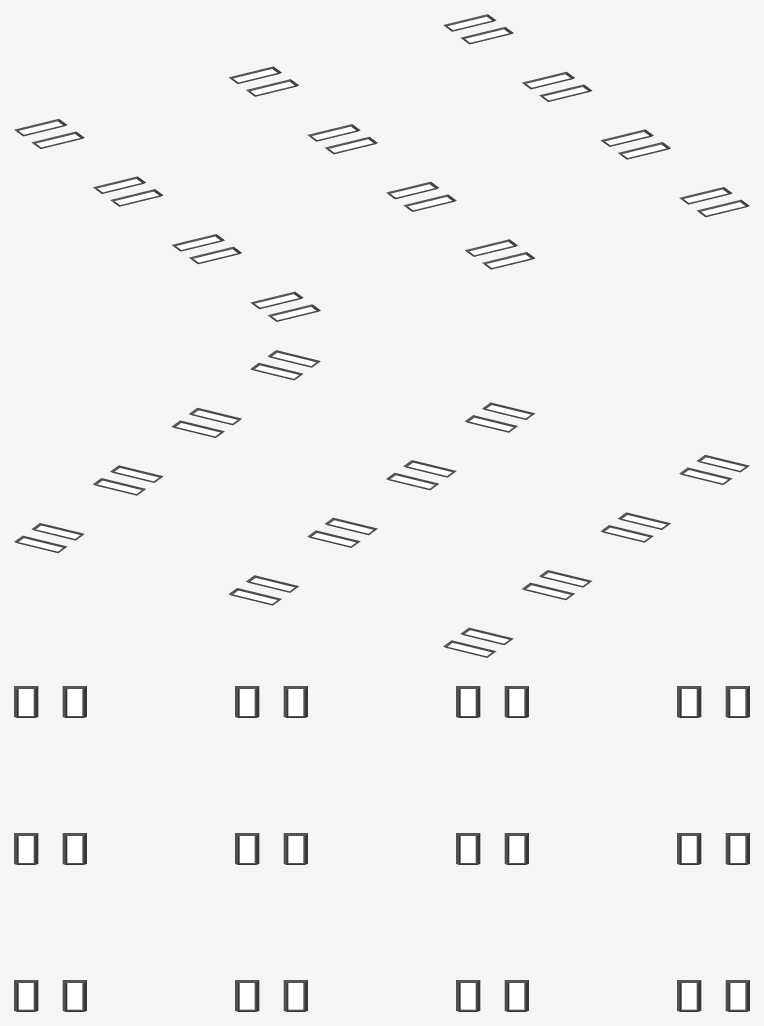
File: PlaneLight.fbx
3 renders of one model, top to bottom at view 1: azimuth 30°, elevation 25°; view 2: azimuth 150°, elevation 25°; view 3: azimuth 270°, elevation 25°, orthographic. The views are drawn at different scales.
Visible parts, largest first — view 1: Plane_Light.001, Plane_Light.012, Plane_Light.009, Plane_Light, Plane_Light.003, Plane_Light.010, Plane_Light.011, Plane_Light.006, Plane_Light.004, Plane_Light.005, Plane_Light.007, Plane_Light.002; view 2: Plane_Light.012, Plane_Light.003, Plane_Light.009, Plane_Light.001, Plane_Light.007, Plane_Light.010, Plane_Light.011, Plane_Light.005, Plane_Light, Plane_Light.002, Plane_Light.006, Plane_Light.004; view 3: Plane_Light, Plane_Light.001, Plane_Light.003, Plane_Light.002, Plane_Light.004, Plane_Light.005, Plane_Light.006, Plane_Light.007, Plane_Light.012, Plane_Light.009, Plane_Light.010, Plane_Light.011.
Part boxes in pixels (left/top/right/bottom): Plane_Light.001: left=250, top=291, right=320, bottom=321; Plane_Light.012: left=522, top=71, right=592, bottom=101; Plane_Light.009: left=600, top=129, right=670, bottom=159; Plane_Light: left=386, top=181, right=456, bottom=211; Plane_Light.003: left=14, top=119, right=84, bottom=148; Plane_Light.010: left=679, top=187, right=749, bottom=216; Plane_Light.011: left=443, top=14, right=513, bottom=44; Plane_Light.006: left=172, top=234, right=241, bottom=264; Plane_Light.004: left=229, top=66, right=298, bottom=96; Plane_Light.005: left=93, top=176, right=163, bottom=206; Plane_Light.007: left=307, top=124, right=377, bottom=154; Plane_Light.002: left=465, top=239, right=534, bottom=269; Plane_Light.012: left=93, top=465, right=163, bottom=495; Plane_Light.003: left=443, top=627, right=513, bottom=657; Plane_Light.009: left=171, top=407, right=241, bottom=437; Plane_Light.001: left=679, top=455, right=749, bottom=484; Plane_Light.007: left=307, top=517, right=377, bottom=547; Plane_Light.010: left=250, top=350, right=320, bottom=380; Plane_Light.011: left=14, top=523, right=84, bottom=552; Plane_Light.005: left=522, top=570, right=591, bottom=600; Plane_Light: left=386, top=460, right=456, bottom=490; Plane_Light.002: left=465, top=402, right=534, bottom=432; Plane_Light.006: left=600, top=512, right=670, bottom=542; Plane_Light.004: left=229, top=575, right=298, bottom=605; Plane_Light: left=235, top=833, right=307, bottom=864; Plane_Light.001: left=14, top=686, right=86, bottom=717; Plane_Light.003: left=677, top=686, right=749, bottom=717; Plane_Light.002: left=14, top=833, right=86, bottom=864; Plane_Light.004: left=677, top=833, right=749, bottom=864; Plane_Light.005: left=456, top=686, right=528, bottom=717; Plane_Light.006: left=235, top=686, right=307, bottom=717; Plane_Light.007: left=456, top=833, right=528, bottom=864; Plane_Light.012: left=456, top=980, right=528, bottom=1011; Plane_Light.009: left=235, top=980, right=307, bottom=1011; Plane_Light.010: left=14, top=980, right=86, bottom=1011; Plane_Light.011: left=677, top=980, right=749, bottom=1011.
Size of the model in its own units: 552 by 1.82 by 529.
1 material, 1 textured.
